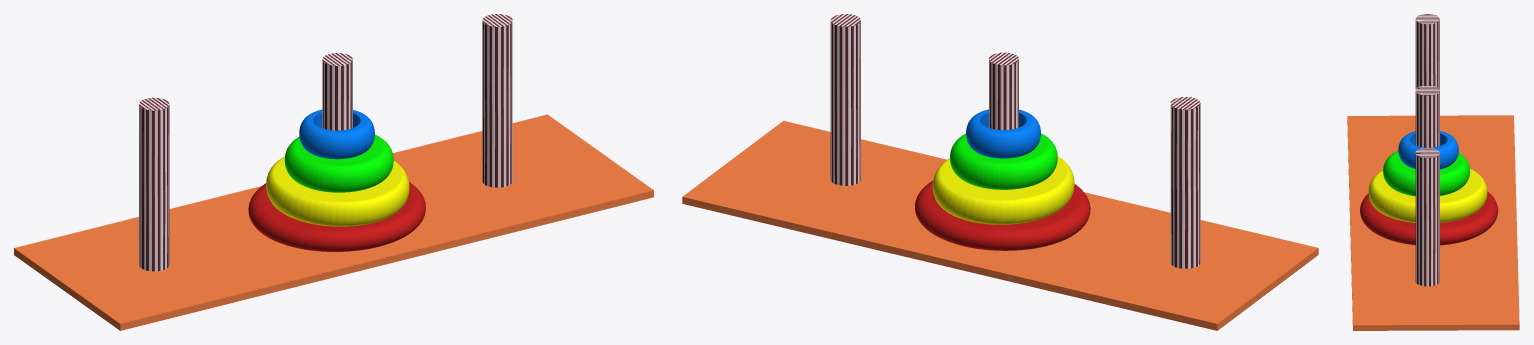
The model's file is TOH_final.obj.
3 renders of one model, left to right at view 1: azimuth 30°, elevation 25°; view 2: azimuth 150°, elevation 25°; view 3: azimuth 270°, elevation 25°, orthographic. The views are drawn at different scales.
Parts seen in each view (by area): view 1: Cube_Cube.002, disk1, disk3, Cylinder.004_Cylinder.013, Cylinder.003_Cylinder.012, disk5_disk5.001, disk6, Cylinder.001_Cylinder.010; view 2: Cube_Cube.002, disk1, disk3, Cylinder.003_Cylinder.012, Cylinder.004_Cylinder.013, disk5_disk5.001, disk6, Cylinder.001_Cylinder.010; view 3: Cube_Cube.002, Cylinder.003_Cylinder.012, disk1, disk3, disk5_disk5.001, Cylinder.004_Cylinder.013, Cylinder.001_Cylinder.010, disk6.
Part boxes in pixels (<box>): Cube_Cube.002: <box>14,114,653,330</box>; disk1: <box>266,156,409,226</box>; disk3: <box>248,182,425,251</box>; Cylinder.004_Cylinder.013: <box>139,97,169,271</box>; Cylinder.003_Cylinder.012: <box>482,14,512,187</box>; disk5_disk5.001: <box>284,134,393,192</box>; disk6: <box>299,109,374,159</box>; Cylinder.001_Cylinder.010: <box>322,53,352,130</box>; Cube_Cube.002: <box>682,120,1318,330</box>; disk1: <box>932,156,1074,224</box>; disk3: <box>915,180,1090,250</box>; Cylinder.003_Cylinder.012: <box>830,14,860,185</box>; Cylinder.004_Cylinder.013: <box>1170,97,1200,268</box>; disk5_disk5.001: <box>950,133,1057,189</box>; disk6: <box>966,109,1040,158</box>; Cylinder.001_Cylinder.010: <box>989,52,1018,130</box>; Cube_Cube.002: <box>1347,115,1519,330</box>; Cylinder.003_Cylinder.012: <box>1415,147,1439,286</box>; disk1: <box>1368,169,1487,222</box>; disk3: <box>1360,191,1498,245</box>; disk5_disk5.001: <box>1383,151,1470,196</box>; Cylinder.004_Cylinder.013: <box>1415,14,1439,89</box>; Cylinder.001_Cylinder.010: <box>1415,85,1439,147</box>; disk6: <box>1398,131,1458,169</box>.
Size of the model in its own units: 33.9 by 10.18 by 11.74.
6 materials, 6 textured.
